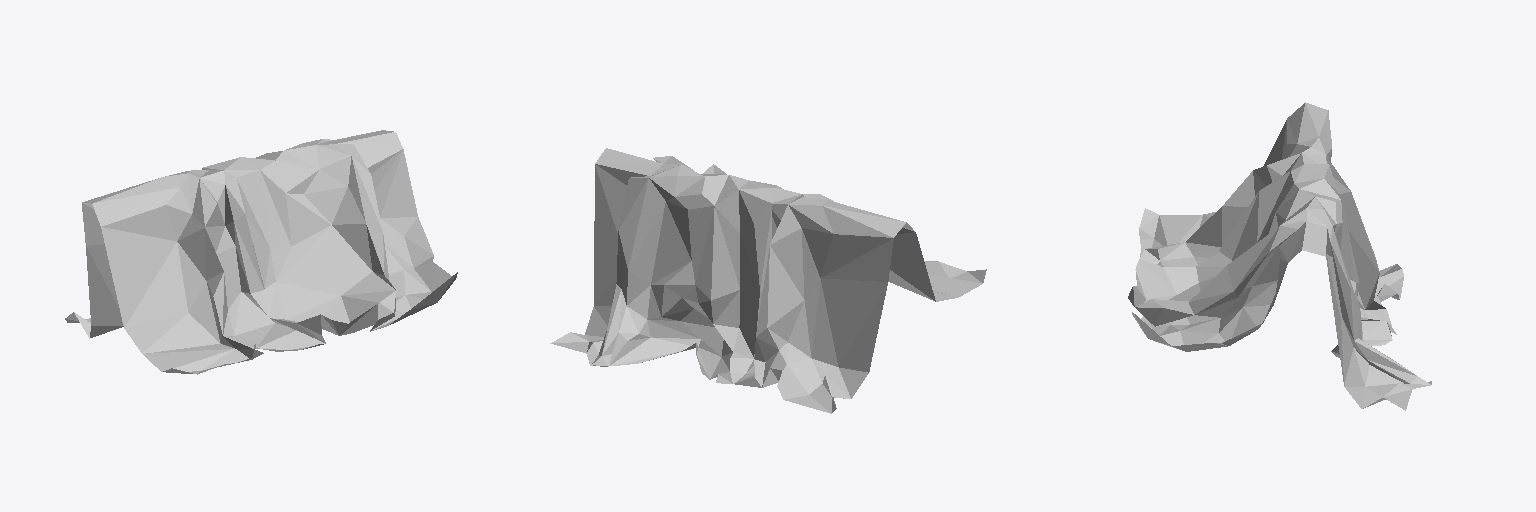
The model's file is Bath_add.obj.
3 views of the same model, side by side, from view 1: azimuth 30°, elevation 25°; view 2: azimuth 150°, elevation 25°; view 3: azimuth 270°, elevation 25° (orthographic).
Visible parts, largest first — view 1: Bath_add_LOD0_Plane.018; view 2: Bath_add_LOD0_Plane.018; view 3: Bath_add_LOD0_Plane.018.
Part boxes in pixels (x1,y1,x2,y2): Bath_add_LOD0_Plane.018: (65, 130, 457, 374); Bath_add_LOD0_Plane.018: (550, 148, 986, 413); Bath_add_LOD0_Plane.018: (1128, 102, 1431, 410).
Bounding box in the file's own units: 1.43 × 0.7417 × 1.22.